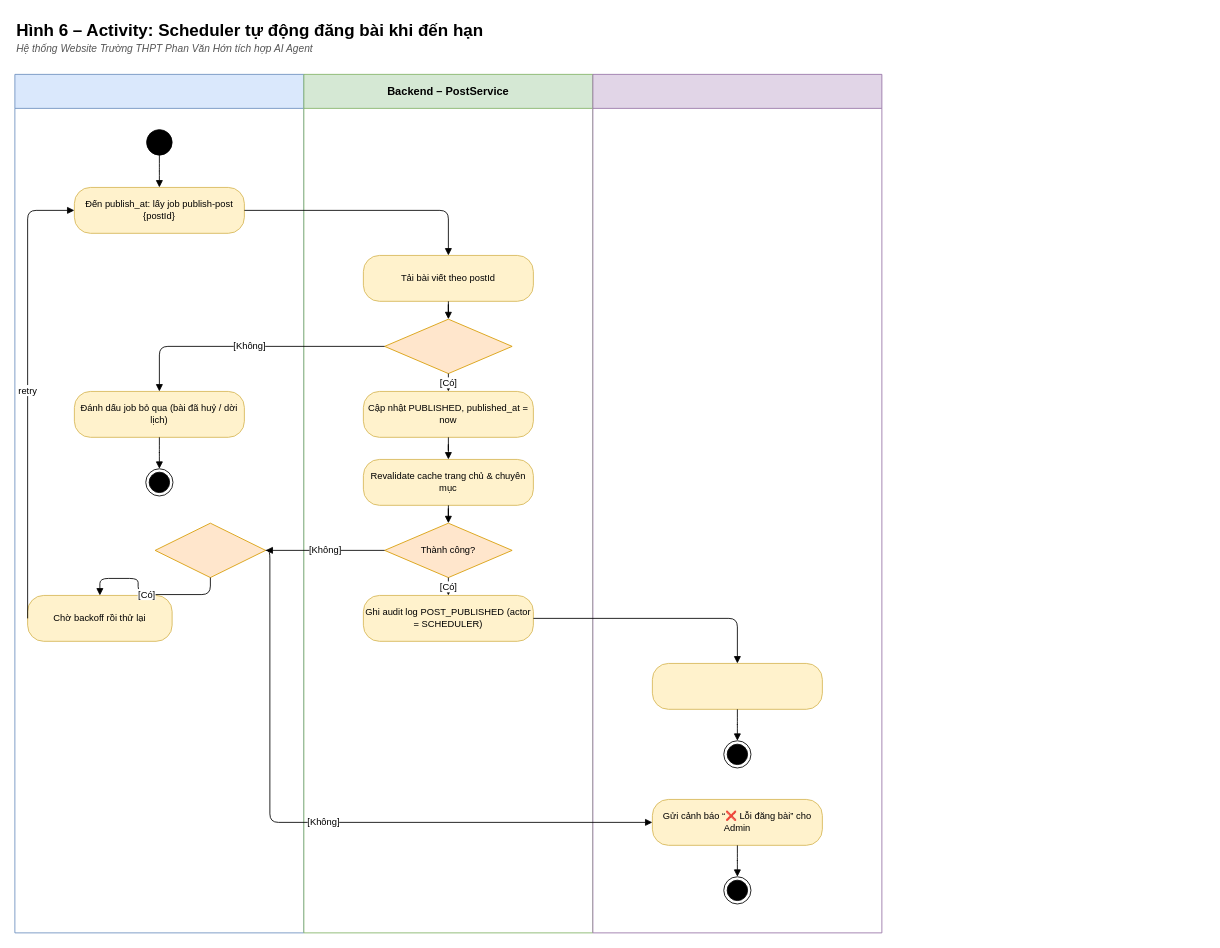
Some shapes in this 1220 by 948 pixel diagram are drawn without their labels. The box of each missing label's shape, as (x1, y1, x2, y2) in pixels:
Gửi “✅ Đã đăng bài” cho tác giả & BGH: (652, 663, 822, 709)
Scheduler (BullMQ Worker): (14, 74, 304, 933)
Số lần thử < 3?: (154, 522, 266, 578)
Telegram Gateway: (592, 74, 882, 933)
Trạng thái = SCHEDULED?: (384, 318, 512, 374)
